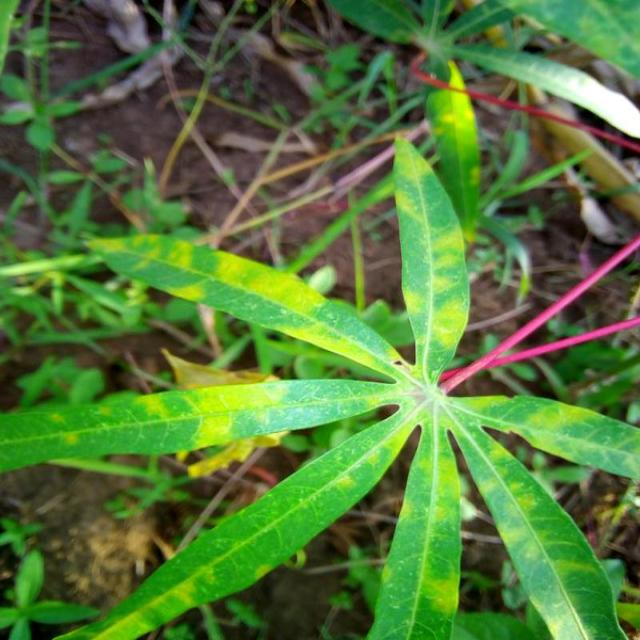cassava leaf: (11, 129, 638, 638), (392, 135, 471, 386), (423, 57, 481, 243)
